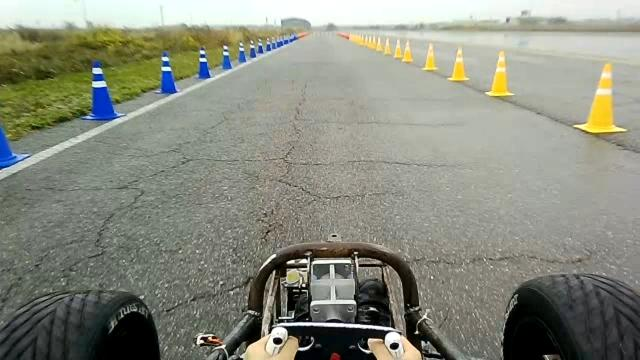blue cone: (80, 60, 126, 121), (0, 124, 31, 169), (154, 50, 179, 94), (196, 45, 212, 79), (221, 44, 232, 70), (237, 40, 247, 62), (249, 39, 256, 58), (257, 39, 264, 54), (270, 36, 276, 50), (266, 38, 272, 52)
yellow cone: (573, 62, 627, 134), (485, 50, 514, 97), (447, 46, 469, 82), (421, 42, 438, 71), (401, 40, 413, 62), (393, 38, 403, 58), (496, 50, 506, 69), (384, 37, 392, 55), (367, 35, 375, 49), (376, 36, 382, 52)
